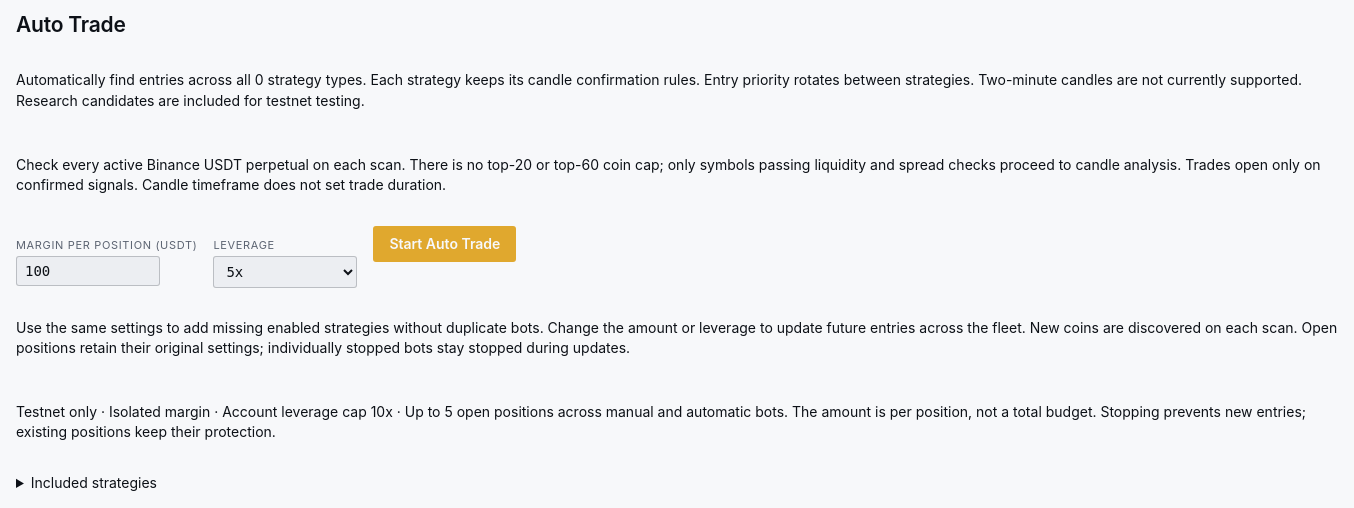
Test: blocks invalid amount and leverage above the cap
The image size is (1354, 508).
Replace the text in the number field labelled "Margin per position (USDT)" with "0": (88, 271) [16,256,160,286]
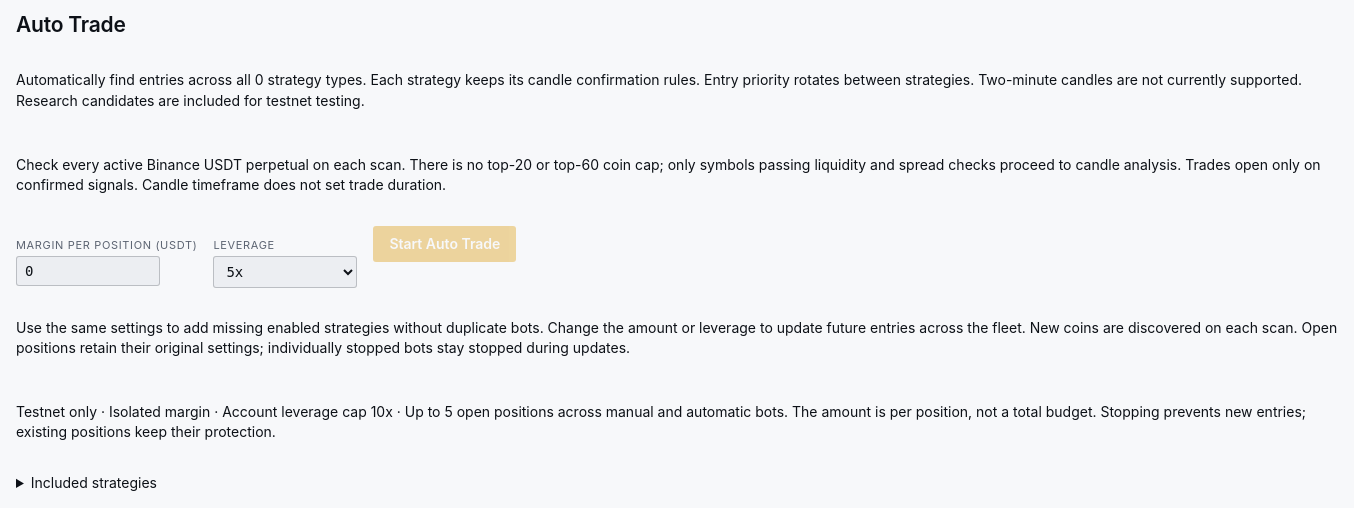
Now the button "Start Auto Trade" is disabled, box [373,226,516,262]
